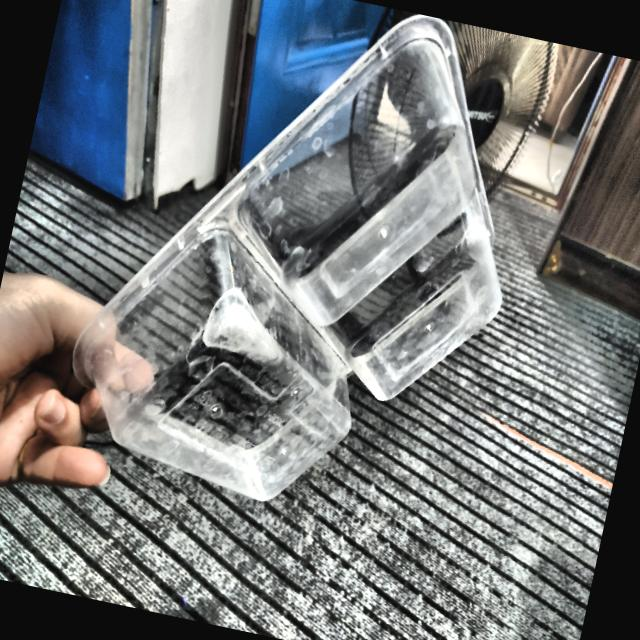plastic container: (73, 16, 501, 500)
